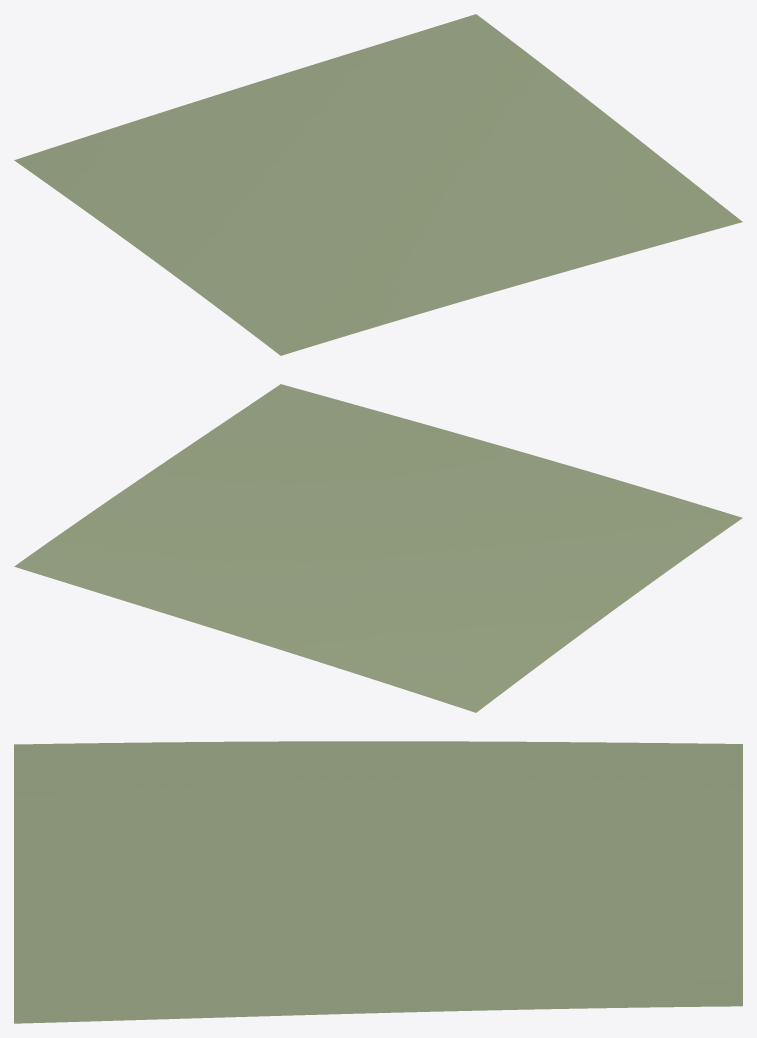
Rendered from expanse-11-9.glb.
3 renders of one model, top to bottom at view 1: azimuth 30°, elevation 25°; view 2: azimuth 150°, elevation 25°; view 3: azimuth 270°, elevation 25°, orthographic. The views are drawn at different scales.
Parts seen in each view (by area): view 1: expanse-11-9; view 2: expanse-11-9; view 3: expanse-11-9.
Boxes of the visible parts, left/top/right/bottom form: expanse-11-9: left=14, top=14, right=742, bottom=355; expanse-11-9: left=14, top=384, right=742, bottom=712; expanse-11-9: left=14, top=741, right=742, bottom=1023.
Size of the model in its own units: 256 by 17.9 by 256.
